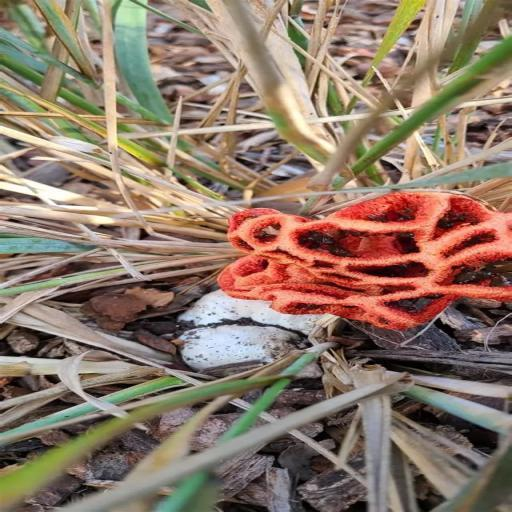mushroom: (208, 189, 512, 328)
